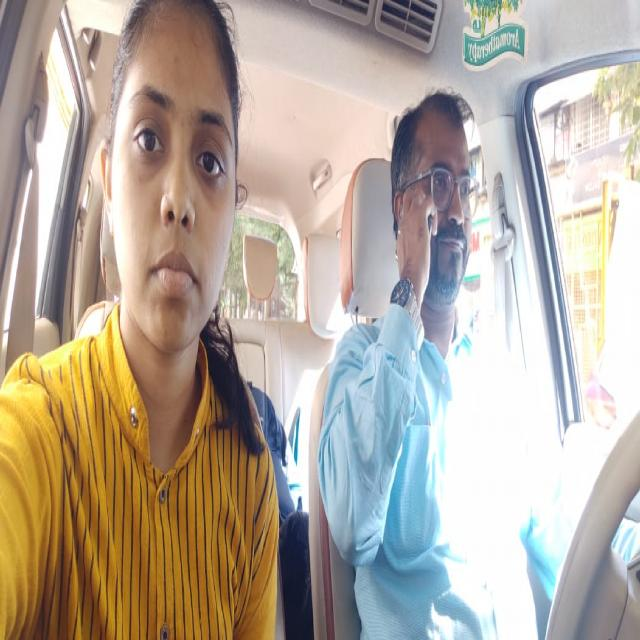person: (99, 0, 251, 376), (392, 83, 488, 354)
